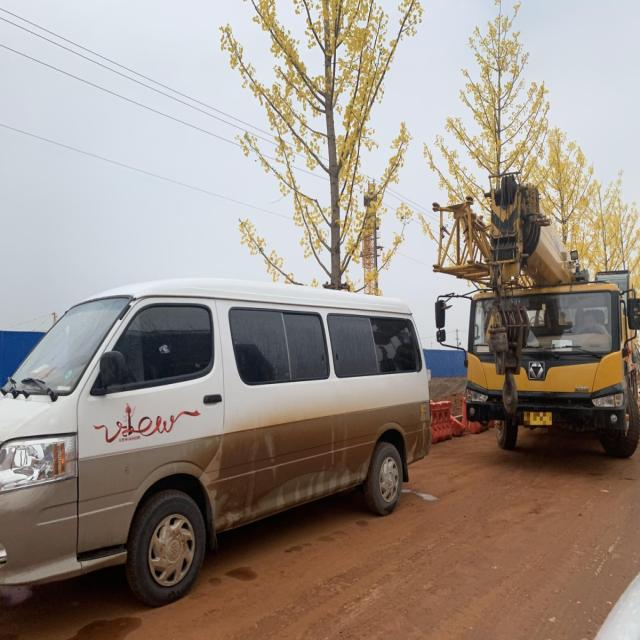crane: (432, 171, 640, 457)
